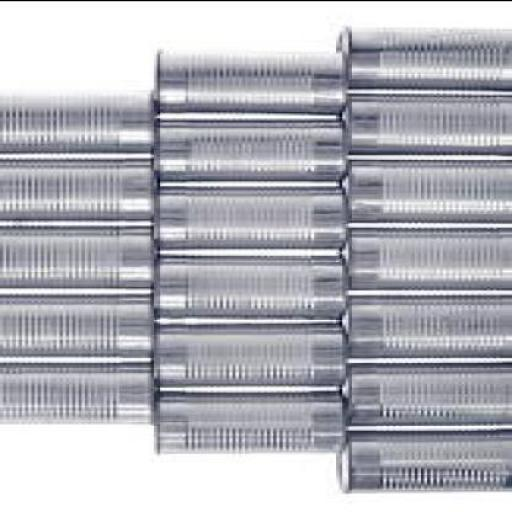metal: (151, 319, 349, 385), (151, 182, 349, 246), (151, 386, 345, 451), (151, 253, 349, 316), (154, 48, 346, 111), (151, 117, 343, 178), (337, 358, 509, 424), (342, 224, 510, 288), (342, 157, 510, 221), (339, 292, 509, 355), (337, 428, 509, 489), (0, 290, 158, 354), (342, 26, 510, 86), (346, 90, 508, 152), (0, 155, 154, 218), (0, 223, 150, 284), (0, 359, 150, 420), (0, 92, 154, 149)
